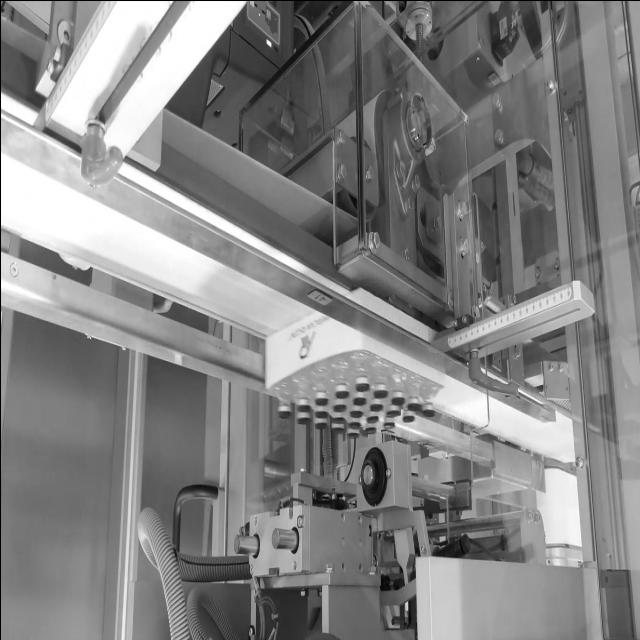vial: (277, 410, 290, 420), (315, 395, 325, 405), (382, 420, 392, 430), (328, 424, 342, 431), (298, 402, 310, 410), (334, 403, 343, 413), (348, 430, 358, 438), (331, 416, 342, 423), (314, 423, 326, 429), (351, 408, 360, 416), (336, 390, 345, 398), (391, 397, 401, 404), (297, 418, 308, 424), (351, 420, 359, 428), (366, 416, 374, 424), (408, 404, 418, 410), (374, 390, 384, 396), (357, 384, 367, 390), (356, 400, 364, 407), (422, 410, 432, 415), (366, 428, 374, 434), (315, 412, 327, 416), (372, 404, 380, 410), (389, 410, 396, 416), (403, 417, 411, 422)
